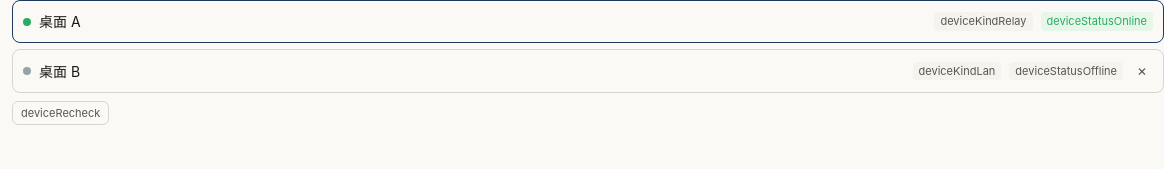
Test: DeviceList 连通性状态 › DeviceList_UnreachableClickBlocked_010
Click the button with class "device-item" that starts with "桌面 B" at (60, 71), box [12,49,1163,93]
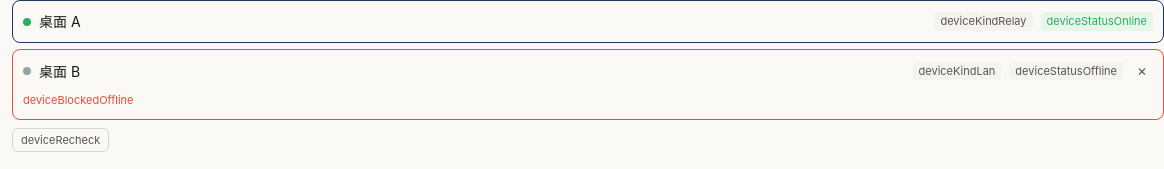
Expected: the button with class "device-remove" is shown, [1131,60,1153,82]
Expected: the text with class "device-blocked" reads "deviceBlockedOffline", [23,93,134,107]
